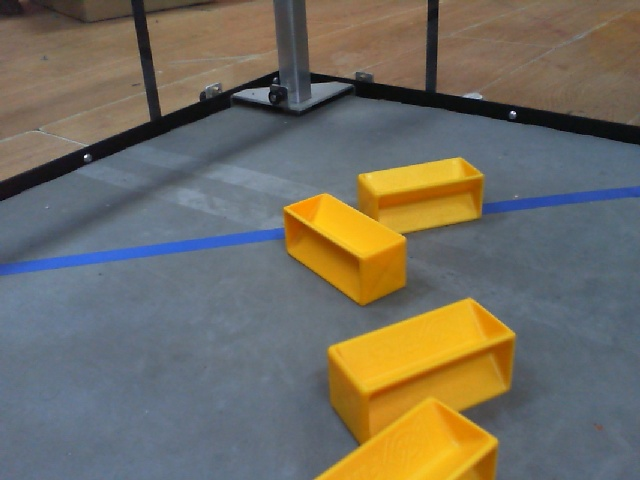YellowSample: (316, 295, 525, 445), (315, 391, 503, 480), (279, 187, 414, 309), (351, 152, 493, 246)
